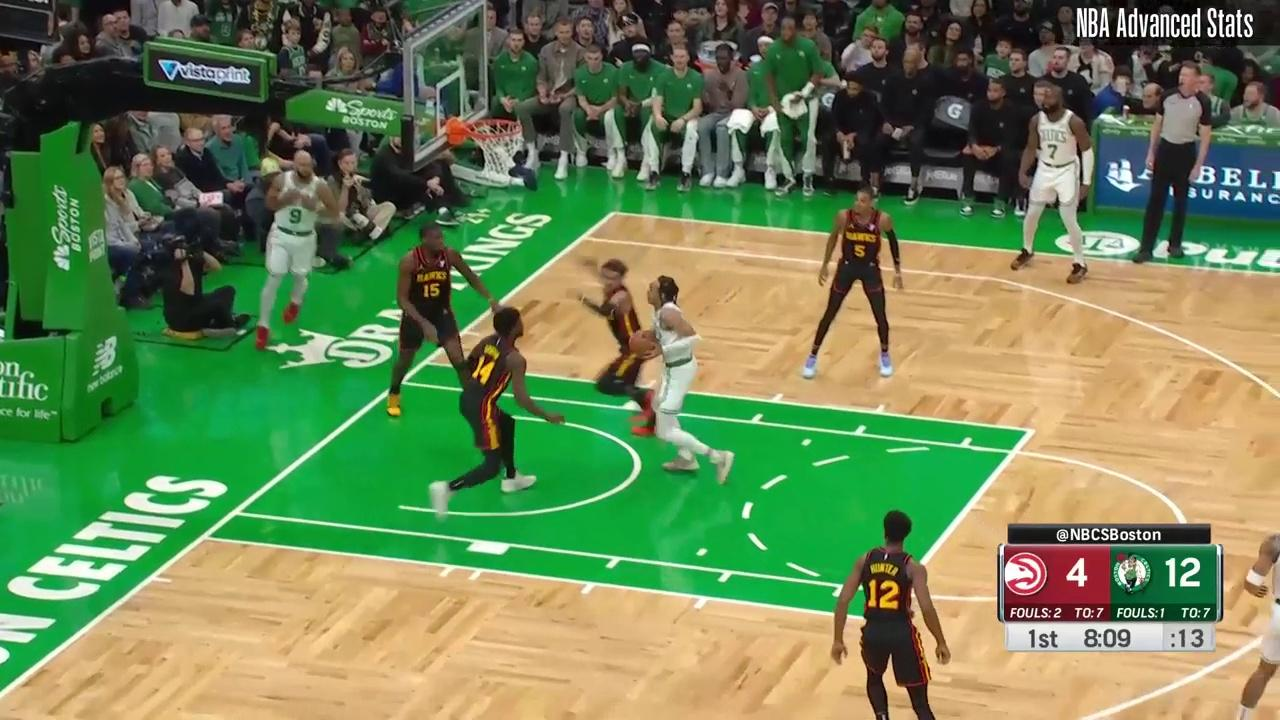3_dx: (577, 231, 592, 245)
b_dx: (604, 205, 623, 221)
free_adx: (1021, 419, 1042, 439)
free_bdx: (418, 354, 434, 370)
free_bsx: (196, 528, 213, 544)
referee: (1131, 58, 1212, 264)
team: (635, 274, 736, 487), (253, 150, 340, 349), (1011, 84, 1095, 285), (1238, 520, 1280, 720)
team1: (428, 306, 567, 514), (834, 509, 951, 720), (388, 222, 504, 414), (801, 185, 904, 380), (573, 254, 660, 438)
timer: (1075, 622, 1137, 652)
